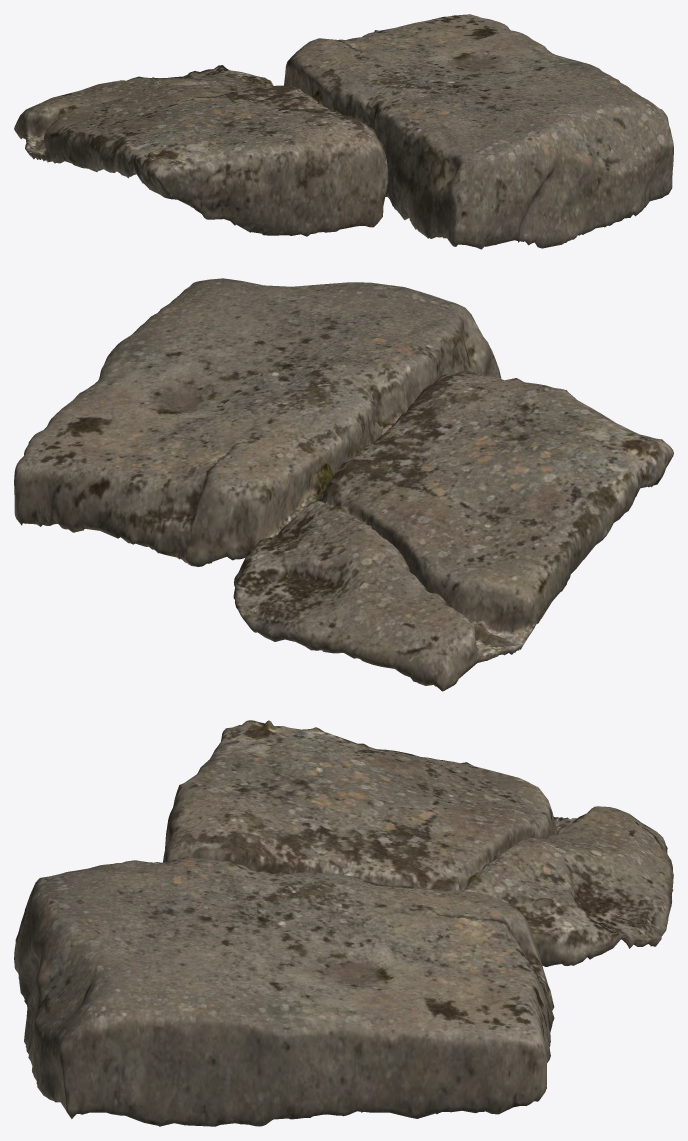
Rendered from step_stones.glb.
3 views of the same model, one above another, from view 1: azimuth 30°, elevation 25°; view 2: azimuth 150°, elevation 25°; view 3: azimuth 270°, elevation 25° (orthographic). The views are drawn at different scales.
Parts seen in each view (by area): view 1: sgyvB_tier_10.001; view 2: sgyvB_tier_10.001; view 3: sgyvB_tier_10.001.
Part boxes in pixels (x1,y1,x2,y2): sgyvB_tier_10.001: (14, 14, 673, 249); sgyvB_tier_10.001: (14, 278, 673, 691); sgyvB_tier_10.001: (14, 720, 673, 1126).
Size of the model in its own units: 1.64 by 0.3645 by 1.57.
Materials: 1 (1 with a texture image).
